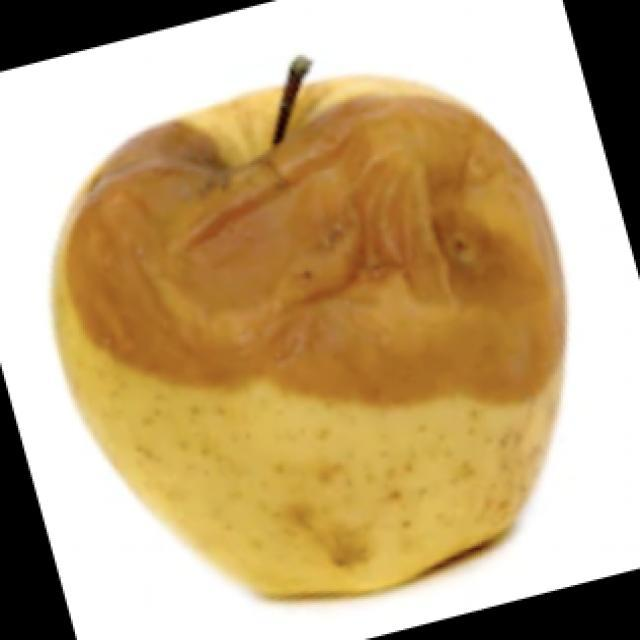Rotten: (42, 69, 570, 594)
